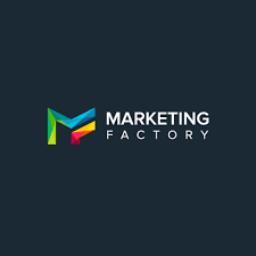a: (119, 126, 133, 146), (122, 108, 134, 128)
c: (137, 131, 147, 141)
e: (157, 105, 169, 127), (169, 110, 181, 124)
f: (103, 128, 117, 142)
g: (198, 108, 212, 128)
i: (178, 106, 184, 128)
k: (146, 108, 158, 126)
m: (108, 105, 122, 129)
n: (182, 105, 198, 127)
o: (166, 130, 180, 140)
r: (134, 106, 146, 128), (184, 129, 196, 143)
t: (153, 126, 161, 142)
y: (196, 126, 214, 144)
